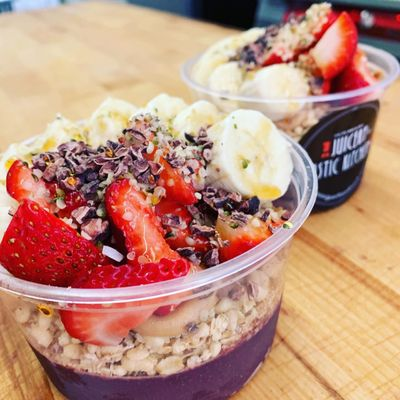sushi: (0, 76, 317, 394), (180, 5, 400, 210)
